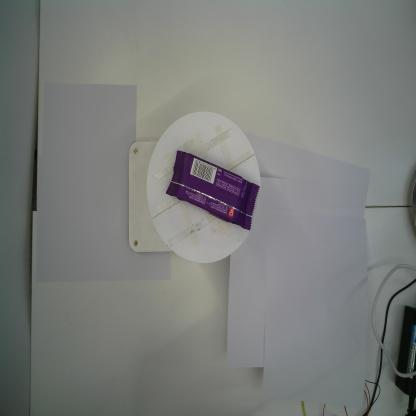Dessert: (166, 150, 260, 231)
